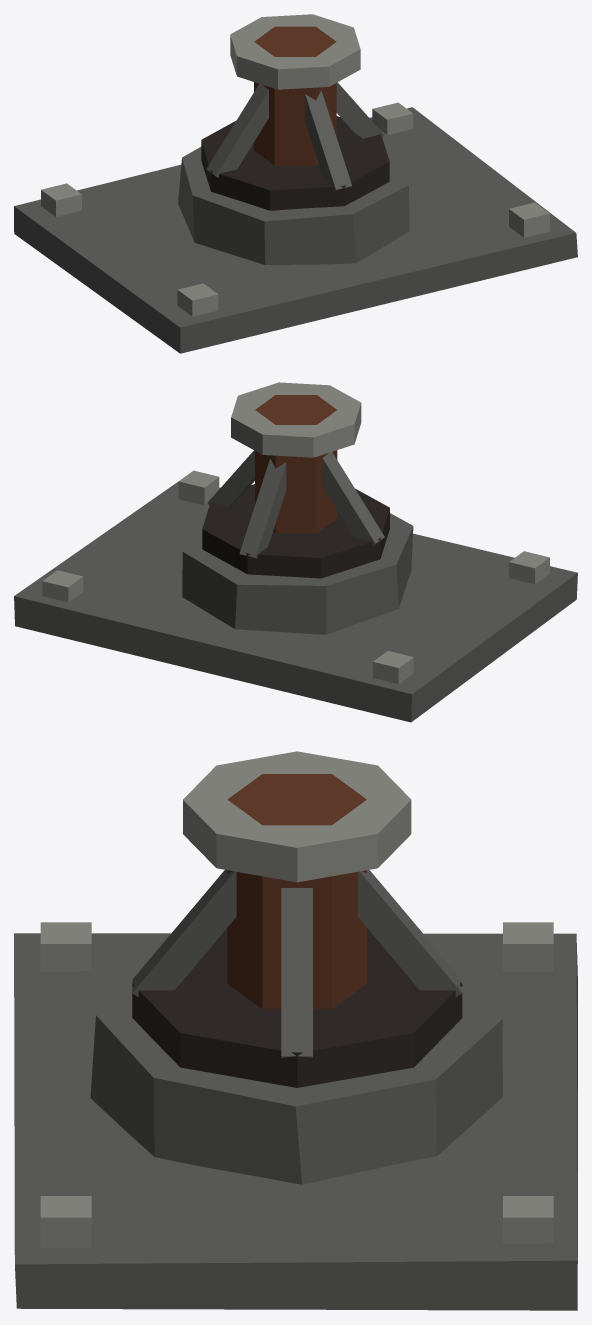
Rendered from wmount_ring_small.glb.
3 renders of one model, top to bottom at view 1: azimuth 30°, elevation 25°; view 2: azimuth 150°, elevation 25°; view 3: azimuth 270°, elevation 25°, orthographic. The views are drawn at different scales.
Parts seen in each view (by area): view 1: wmount_ring_small; view 2: wmount_ring_small; view 3: wmount_ring_small.
Part boxes in pixels (<box>): wmount_ring_small: <box>14,14,577,353</box>; wmount_ring_small: <box>14,382,577,722</box>; wmount_ring_small: <box>14,751,577,1310</box>.
Bounding box in the file's own units: 0.614 × 0.3012 × 0.4442.
